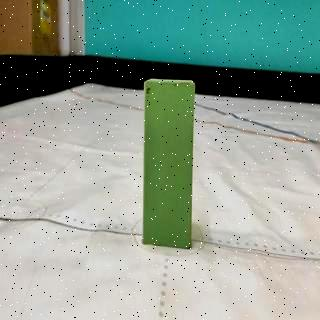greenbox: (144, 79, 195, 250)
